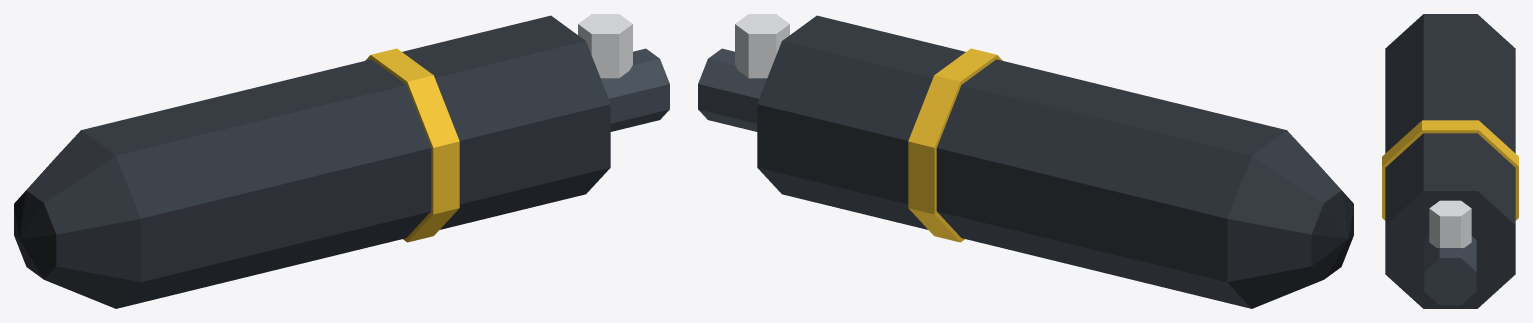
File: tank_hpa_large.glb
3 views of the same model, side by side, from view 1: azimuth 30°, elevation 25°; view 2: azimuth 150°, elevation 25°; view 3: azimuth 270°, elevation 25° (orthographic). The views are drawn at different scales.
Visible parts, largest first — view 1: tank_hpa_large; view 2: tank_hpa_large; view 3: tank_hpa_large.
Part boxes in pixels (x1,y1,x2,y2): tank_hpa_large: (14,14,669,308); tank_hpa_large: (698,14,1353,308); tank_hpa_large: (1382,14,1518,308).
Size of the model in its own units: 0.24 by 0.0582 by 0.0582.
